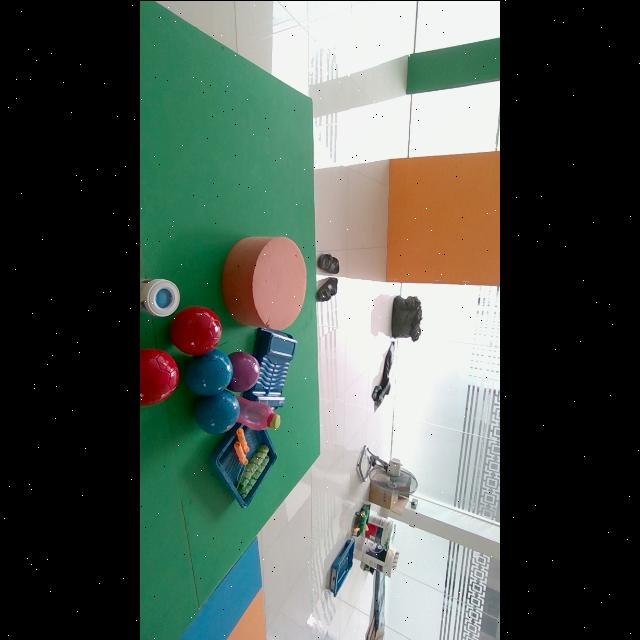B: (185, 348, 233, 395), (194, 390, 240, 433)
P: (227, 351, 259, 391)
R: (169, 305, 222, 354), (140, 348, 178, 405)
